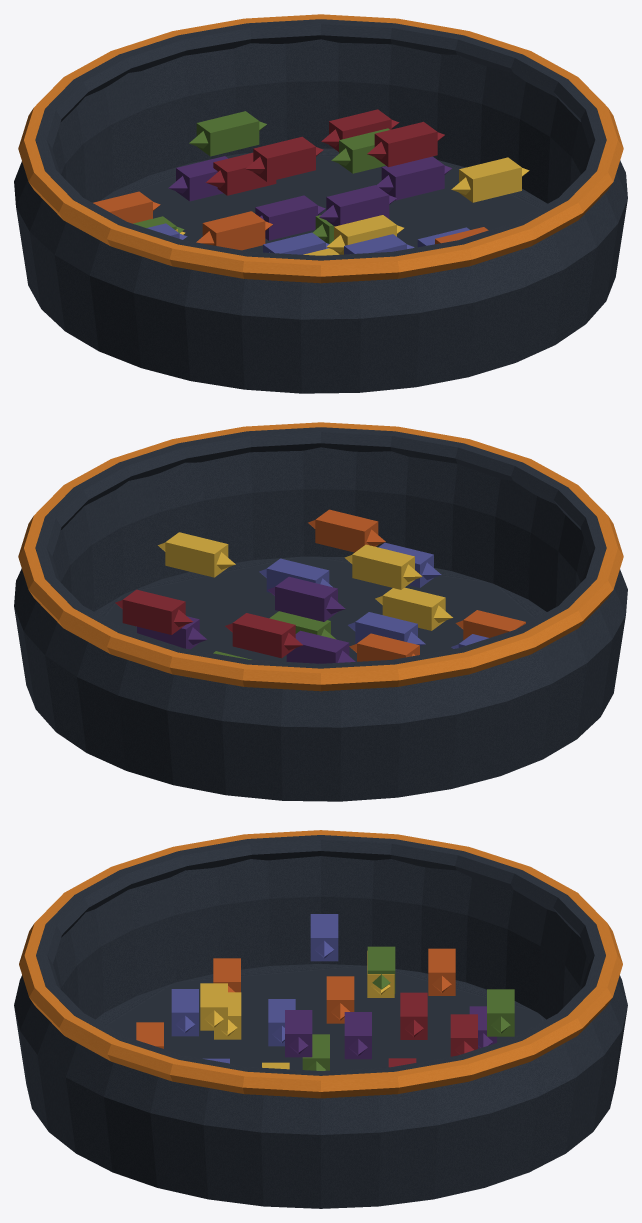
The model's file is EVHalloween_Decor_HalloweenCandyBowl_Fill2.fbx.
3 views of the same model, one above another, from view 1: azimuth 30°, elevation 25°; view 2: azimuth 150°, elevation 25°; view 3: azimuth 270°, elevation 25° (orthographic).
Visible parts, largest first — view 1: EVHalloween_Decor_PumpkinOrange; view 2: EVHalloween_Decor_PumpkinOrange; view 3: EVHalloween_Decor_PumpkinOrange.
Part boxes in pixels (x1,y1,x2,y2): EVHalloween_Decor_PumpkinOrange: (14, 14, 627, 393); EVHalloween_Decor_PumpkinOrange: (14, 422, 627, 801); EVHalloween_Decor_PumpkinOrange: (14, 830, 627, 1208).
Size of the model in its own units: 38 by 10.61 by 38.
